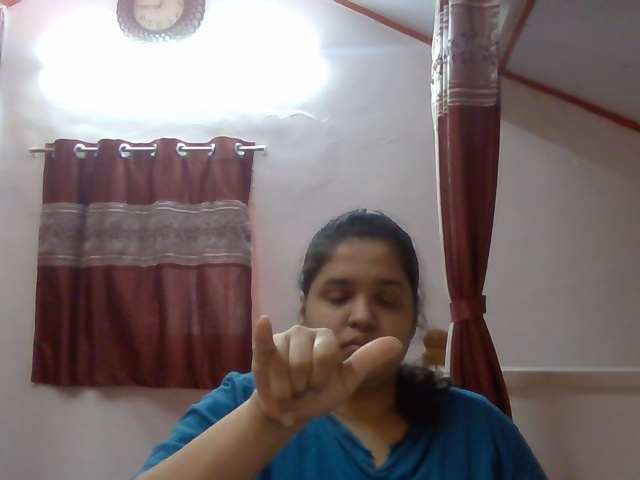y: (220, 304, 423, 429)
